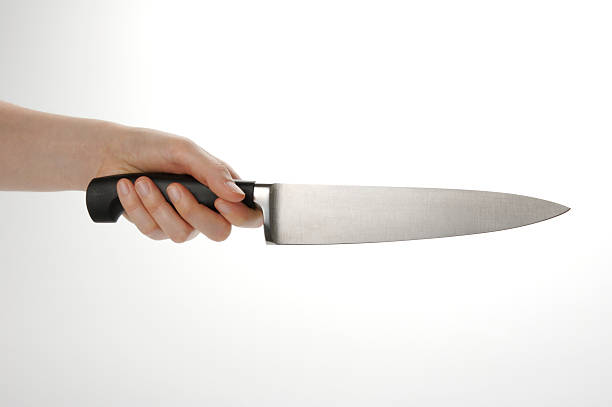knife: (87, 173, 572, 247)
